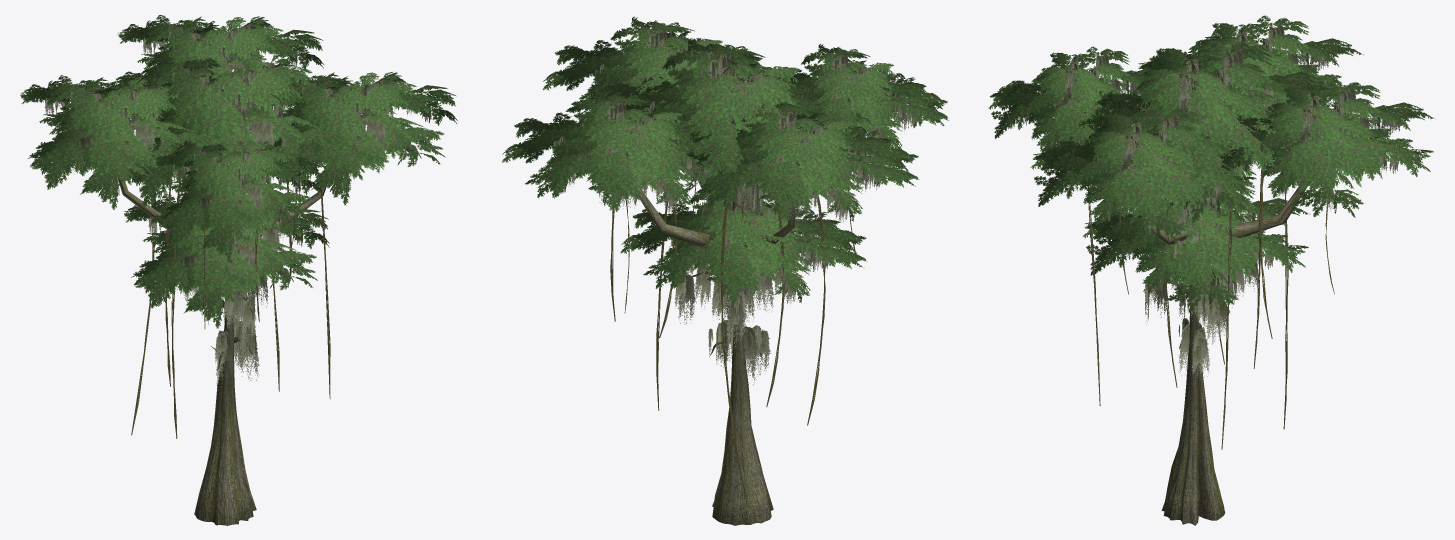
File: jungle_tree.glb
3 views of the same model, side by side, from view 1: azimuth 30°, elevation 25°; view 2: azimuth 150°, elevation 25°; view 3: azimuth 270°, elevation 25° (orthographic). The views are drawn at different scales.
Visible parts, largest first — view 1: bald_cypress_03:Mesh, bald_cypress_03:Mesh_bald_cypress_03:Leaves_4_0.004, bald_cypress_03:Mesh_bald_cypress_03:Leaves_4_0.005, bald_cypress_03:Mesh_bald_cypress_03:Leaves_4_0.002, bald_cypress_03:Mesh_bald_cypress_03:Leaves_4_0.003, bald_cypress_03:Mesh_bald_cypress_03:Leaves_4_0.001, cypres_chauve_cypreschauve_bark_D, cypres_chauve_CypresChauve_mousse_D, pCylinder8_Vine01_0.012; view 2: bald_cypress_03:Mesh_bald_cypress_03:Leaves_4_0.004, bald_cypress_03:Mesh_bald_cypress_03:Leaves_4_0.001, bald_cypress_03:Mesh_bald_cypress_03:Leaves_4_0.003, bald_cypress_03:Mesh, bald_cypress_03:Mesh_bald_cypress_03:Leaves_4_0.002, bald_cypress_03:Mesh_bald_cypress_03:Leaves_4_0.005, cypres_chauve_cypreschauve_bark_D, cypres_chauve_CypresChauve_mousse_D, bald_cypress_03:Mesh_bald_cypress_03:Branches_3_0, pCylinder8_Vine01_0.007, pCylinder8_Vine01_0.008; view 3: bald_cypress_03:Mesh, bald_cypress_03:Mesh_bald_cypress_03:Leaves_4_0.005, bald_cypress_03:Mesh_bald_cypress_03:Leaves_4_0.001, bald_cypress_03:Mesh_bald_cypress_03:Leaves_4_0.003, bald_cypress_03:Mesh_bald_cypress_03:Leaves_4_0.002, bald_cypress_03:Mesh_bald_cypress_03:Leaves_4_0.004, cypres_chauve_cypreschauve_bark_D, cypres_chauve_CypresChauve_mousse_D, bald_cypress_03:Mesh_bald_cypress_03:Branches_3_0, pCylinder8_Vine01_0.011, pCylinder8_Vine01_0.007.
Boxes of the visible parts, box(x1,y1,x2,y2) form: bald_cypress_03:Mesh: box(110, 53, 351, 208); bald_cypress_03:Mesh_bald_cypress_03:Leaves_4_0.004: box(20, 75, 212, 209); bald_cypress_03:Mesh_bald_cypress_03:Leaves_4_0.005: box(269, 71, 457, 205); bald_cypress_03:Mesh_bald_cypress_03:Leaves_4_0.002: box(155, 140, 322, 262); bald_cypress_03:Mesh_bald_cypress_03:Leaves_4_0.003: box(124, 194, 329, 328); bald_cypress_03:Mesh_bald_cypress_03:Leaves_4_0.001: box(117, 15, 323, 120); cypres_chauve_cypreschauve_bark_D: box(194, 75, 256, 525); cypres_chauve_CypresChauve_mousse_D: box(180, 121, 279, 389); pCylinder8_Vine01_0.012: box(320, 173, 330, 398); bald_cypress_03:Mesh_bald_cypress_03:Leaves_4_0.004: box(677, 102, 919, 221); bald_cypress_03:Mesh_bald_cypress_03:Leaves_4_0.001: box(502, 89, 741, 214); bald_cypress_03:Mesh_bald_cypress_03:Leaves_4_0.003: box(620, 192, 867, 303); bald_cypress_03:Mesh: box(589, 38, 873, 206); bald_cypress_03:Mesh_bald_cypress_03:Leaves_4_0.002: box(765, 44, 948, 152); bald_cypress_03:Mesh_bald_cypress_03:Leaves_4_0.005: box(542, 16, 773, 123); cypres_chauve_cypreschauve_bark_D: box(682, 67, 773, 525); cypres_chauve_CypresChauve_mousse_D: box(674, 183, 774, 385); bald_cypress_03:Mesh_bald_cypress_03:Branches_3_0: box(638, 189, 709, 248); pCylinder8_Vine01_0.007: box(721, 206, 747, 500); pCylinder8_Vine01_0.008: box(807, 194, 825, 425); bald_cypress_03:Mesh: box(1069, 39, 1335, 224); bald_cypress_03:Mesh_bald_cypress_03:Leaves_4_0.005: box(1030, 106, 1256, 244); bald_cypress_03:Mesh_bald_cypress_03:Leaves_4_0.001: box(1217, 80, 1434, 217); bald_cypress_03:Mesh_bald_cypress_03:Leaves_4_0.003: box(1082, 182, 1310, 313); bald_cypress_03:Mesh_bald_cypress_03:Leaves_4_0.002: box(988, 46, 1152, 153); bald_cypress_03:Mesh_bald_cypress_03:Leaves_4_0.004: box(1137, 15, 1363, 122); cypres_chauve_cypreschauve_bark_D: box(1143, 69, 1225, 525); cypres_chauve_CypresChauve_mousse_D: box(1144, 199, 1258, 378); bald_cypress_03:Mesh_bald_cypress_03:Branches_3_0: box(1232, 138, 1308, 237); pCylinder8_Vine01_0.011: box(1221, 204, 1232, 449); pCylinder8_Vine01_0.007: box(1283, 190, 1288, 429).
Bounding box in the file's own units: 29.58 × 31.51 × 28.31.
Materials: 9 (9 with a texture image).
